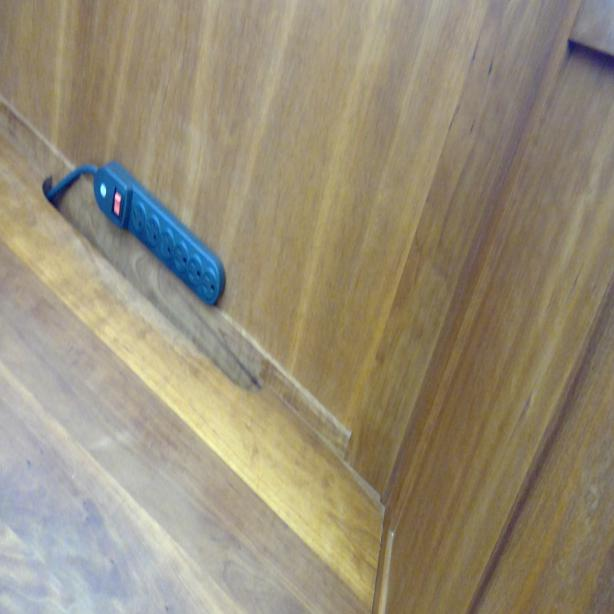typeb: (158, 230, 173, 259), (200, 271, 216, 298), (172, 245, 188, 271), (145, 215, 158, 242), (131, 204, 145, 229), (187, 260, 201, 282)
